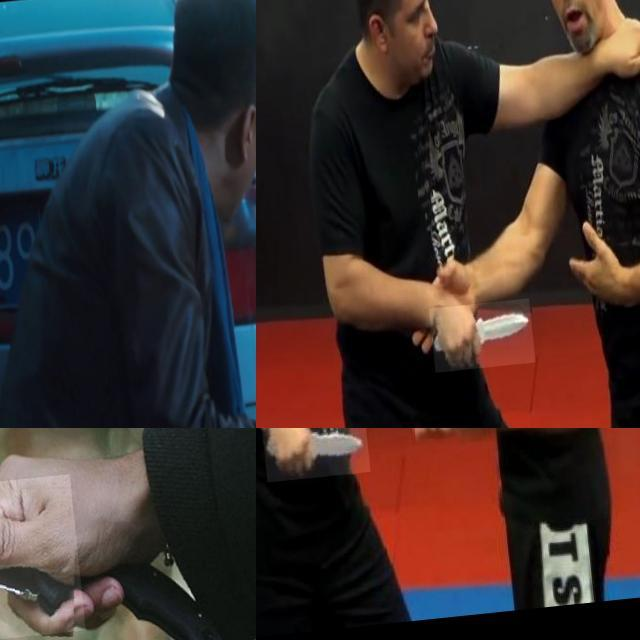-: (0, 482, 103, 640), (419, 304, 525, 376), (256, 428, 359, 485)
